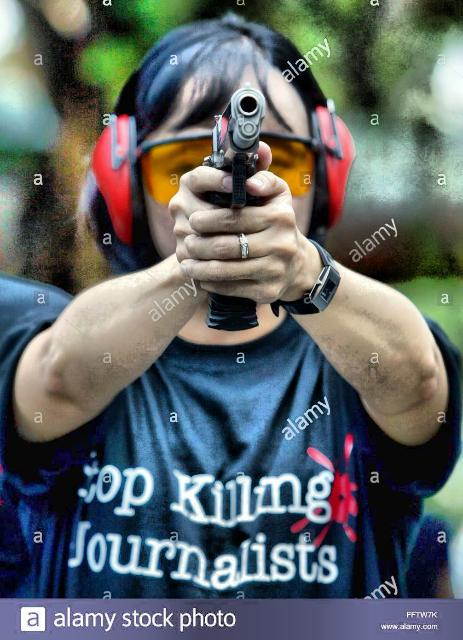pistol: (183, 86, 293, 337)
